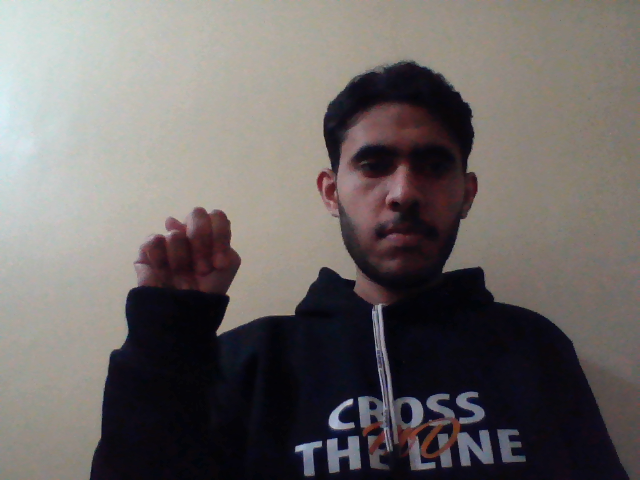N: (130, 209, 243, 322)
